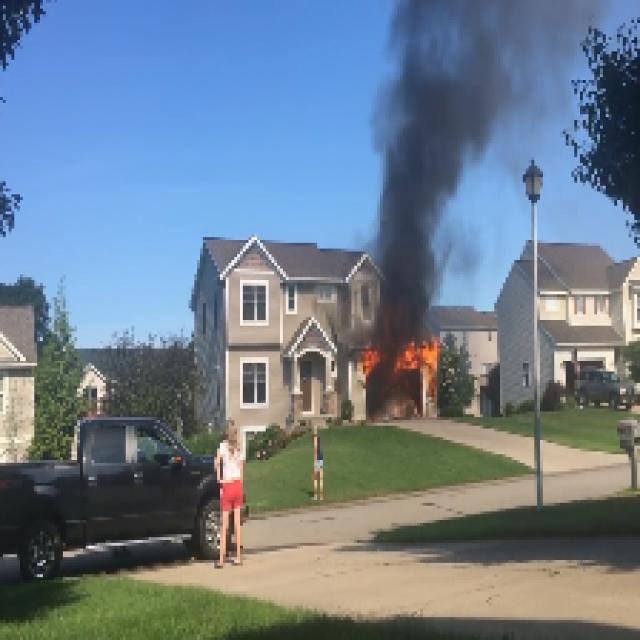Fire: (361, 341, 442, 376)
Smoke: (380, 2, 572, 109), (374, 118, 462, 330)
